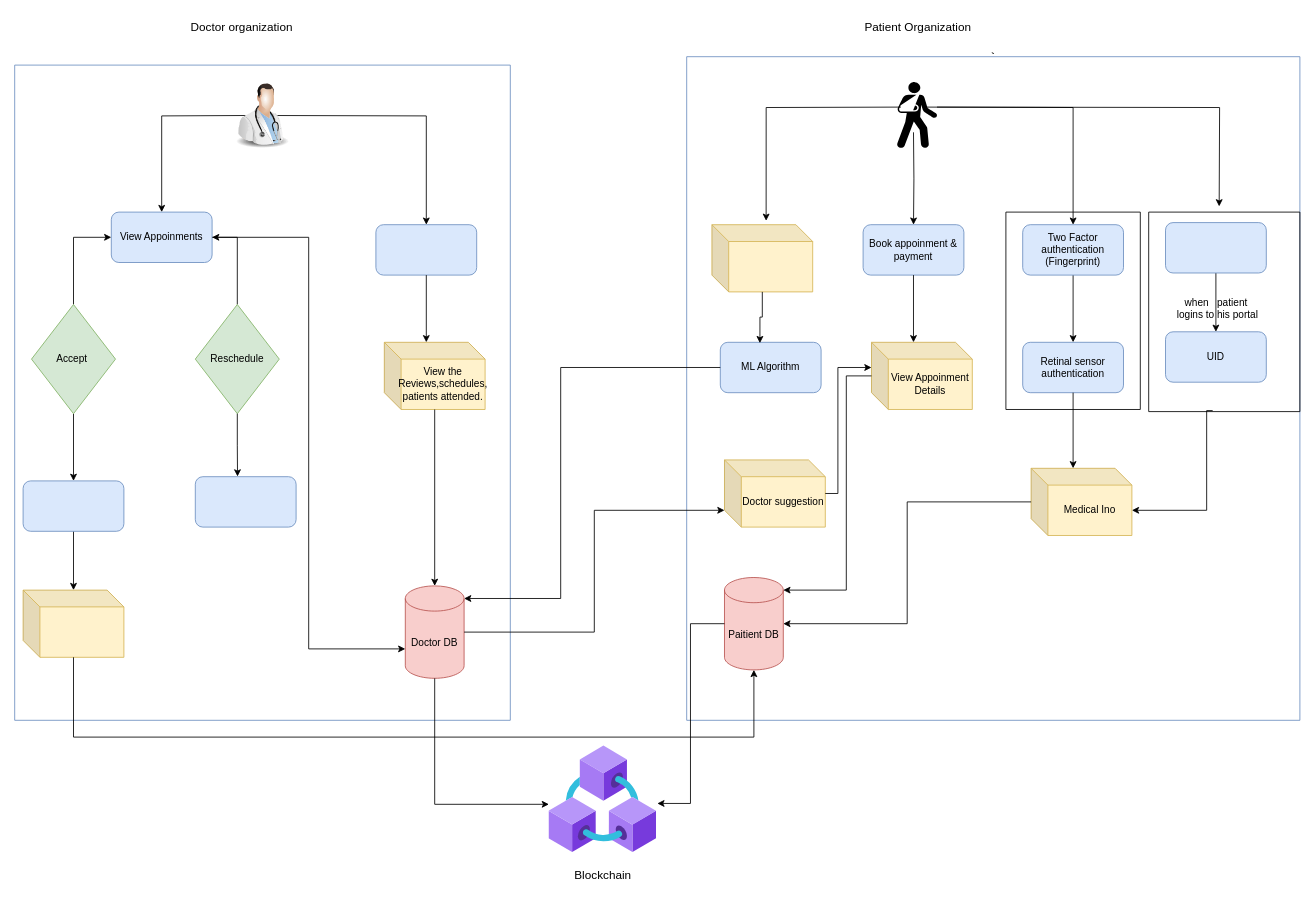
Image size: 1315x902. Some labels were removed from this diagram. The shapes that lost their labels are listed below. From the top down, each one's centre as x and y in pixels, then its label:
At (x=426, y=249): "Profile".
At (x=762, y=258): "Upload document [X-ray ]".
At (x=1215, y=247): "USER NAME PASSWORD".
At (x=1072, y=310): "only in the Hospital".
At (x=73, y=505): "Attend patient".
At (x=245, y=501): "Notify the particular UID".
At (x=73, y=623): "Add Medication to the patient DB".
